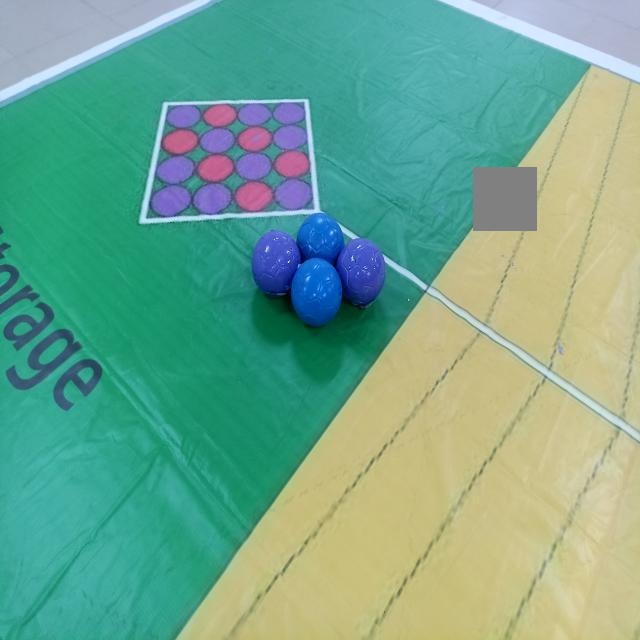blue_ball: (290, 259, 344, 331), (294, 210, 346, 270)
purple_ball: (251, 228, 303, 304), (336, 237, 387, 310)
